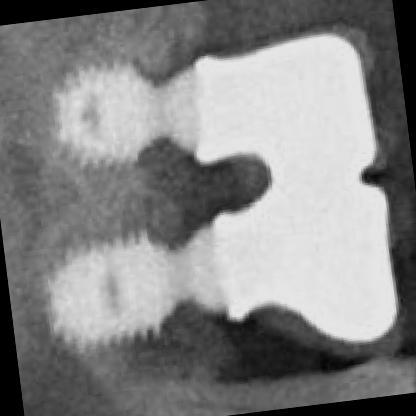Bicon: (32, 222, 192, 356), (41, 52, 167, 168)
